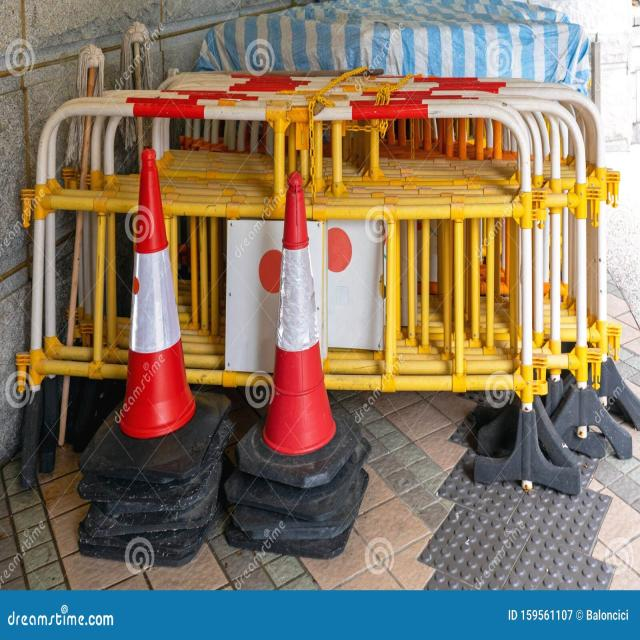cone: (16, 66, 634, 497)
